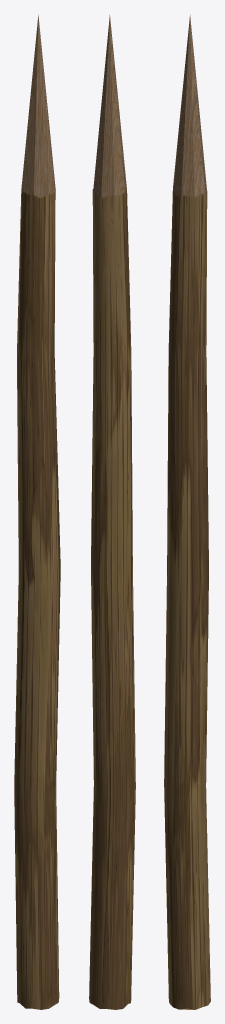
Rendered from WoodSpear.fbx.
3 views of the same model, side by side, from view 1: azimuth 30°, elevation 25°; view 2: azimuth 150°, elevation 25°; view 3: azimuth 330°, elevation 25° (orthographic).
Visible parts, largest first — view 1: Model; view 2: Model; view 3: Model.
Part boxes in pixels (x1=…): Model: x1=14, y1=15, x2=60, y2=1009; Model: x1=89, y1=15, x2=135, y2=1009; Model: x1=164, y1=15, x2=210, y2=1009.
Size of the model in its own units: 19.65 by 457 by 19.16.
